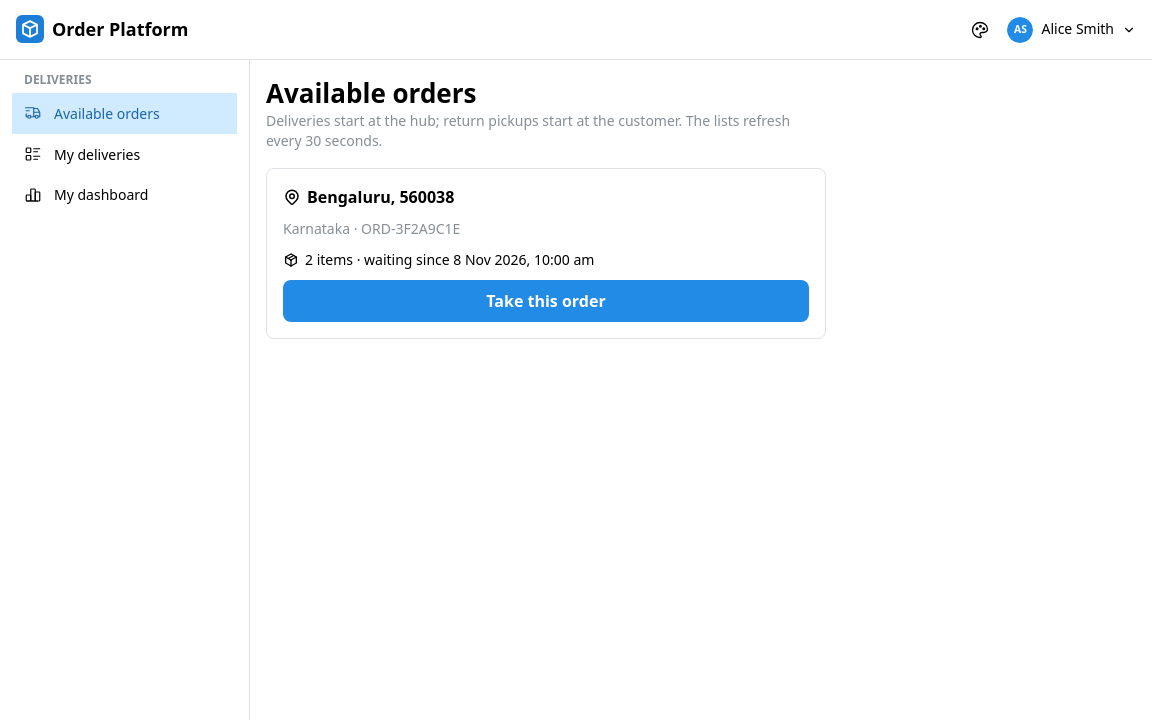
Scenario: available orders › takes an order and moves to my deliveries
The width and height of the screenshot is (1152, 720).
Expected: the text "Bengaluru, 560038" is shown, [307,185,454,210]
Step 1. Click the button "Take this order" → [546, 301], box [283,280,809,322]
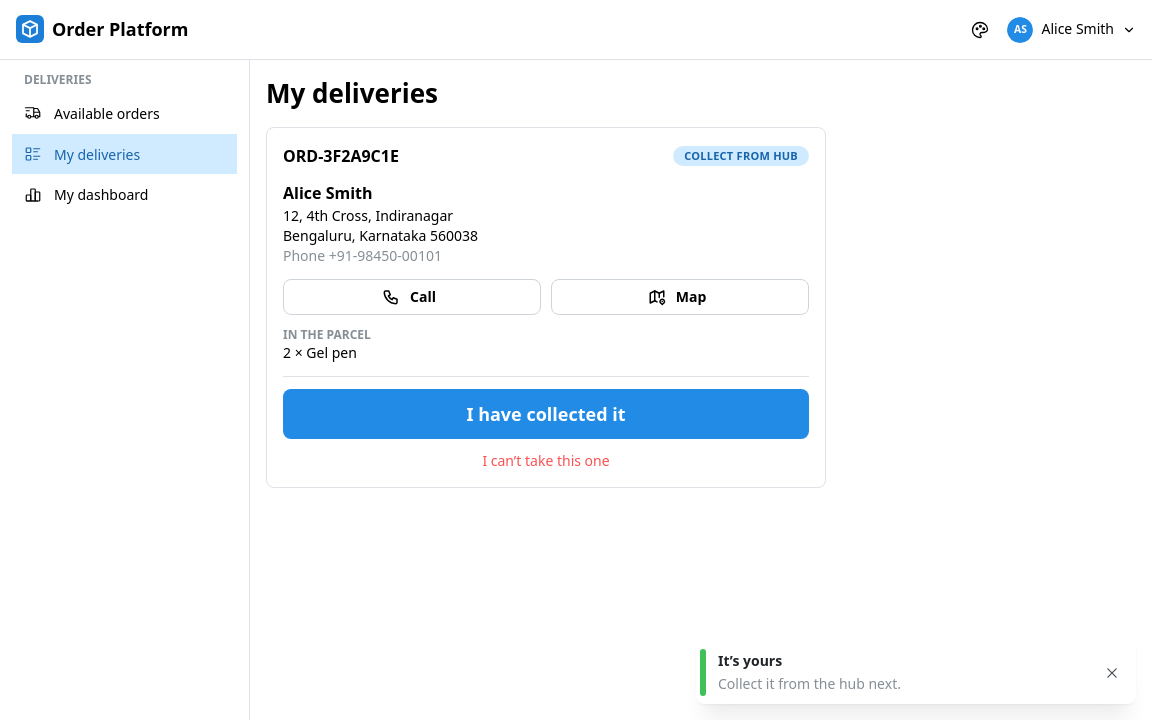
Result: the heading "My deliveries" is shown at [266,75,438,111]
Result: the button "I have collected it" is shown at [283,389,809,439]
Result: the text "2 × Gel pen" is shown at [283,343,357,362]
